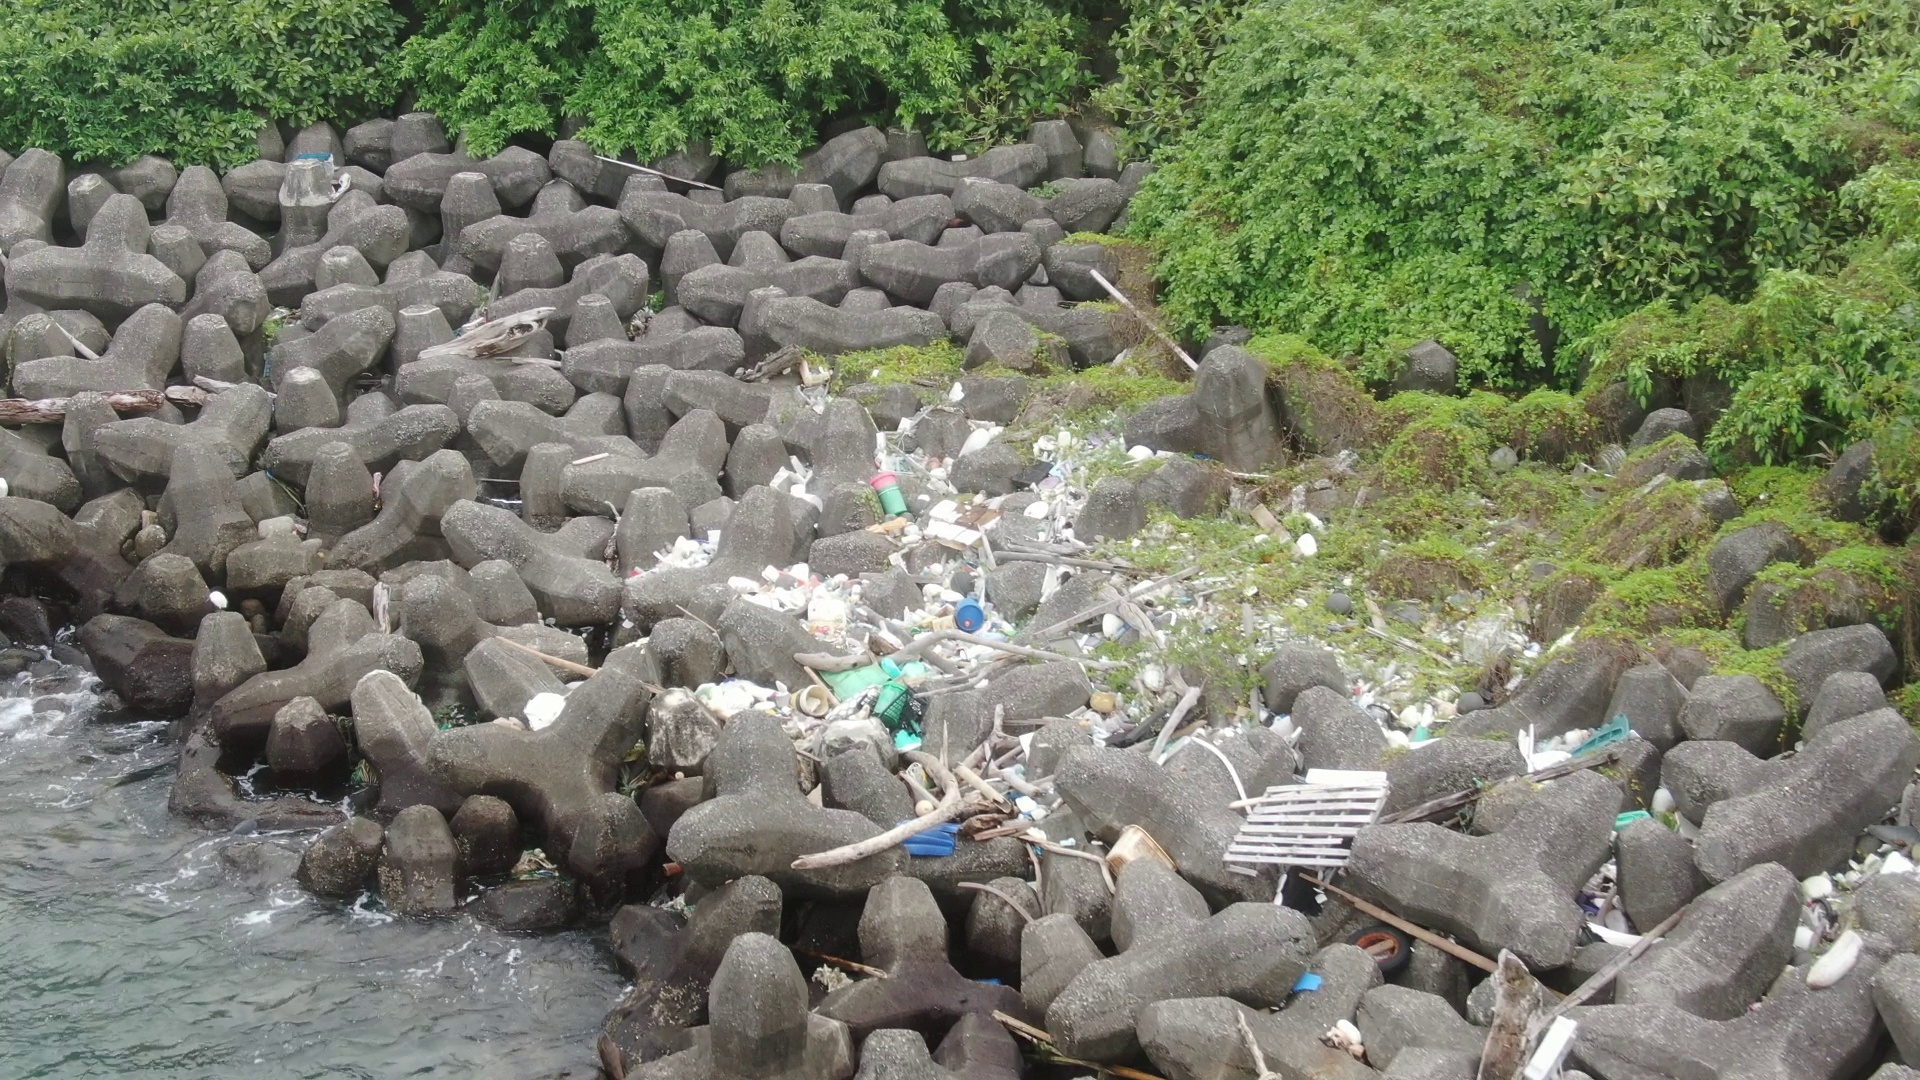garbage: (653, 361, 1222, 866), (1222, 626, 1527, 756), (1225, 745, 1386, 915), (1567, 795, 1669, 945), (1793, 866, 1870, 992), (1514, 713, 1643, 775), (1523, 1011, 1589, 1080), (512, 674, 579, 738), (1350, 919, 1414, 976), (1861, 825, 1920, 884), (802, 949, 862, 1000), (1321, 1015, 1370, 1056), (342, 760, 392, 796), (427, 702, 475, 740), (1288, 967, 1323, 1007), (293, 140, 339, 167), (1288, 527, 1327, 560)
